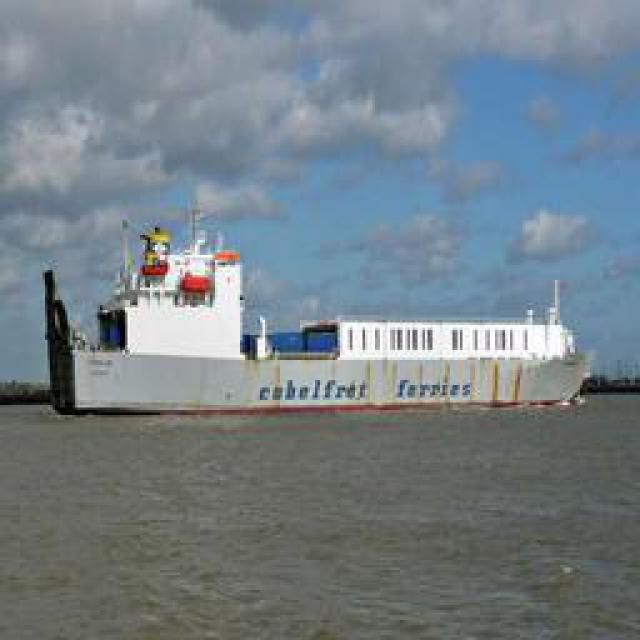Ship: (44, 219, 589, 412)
